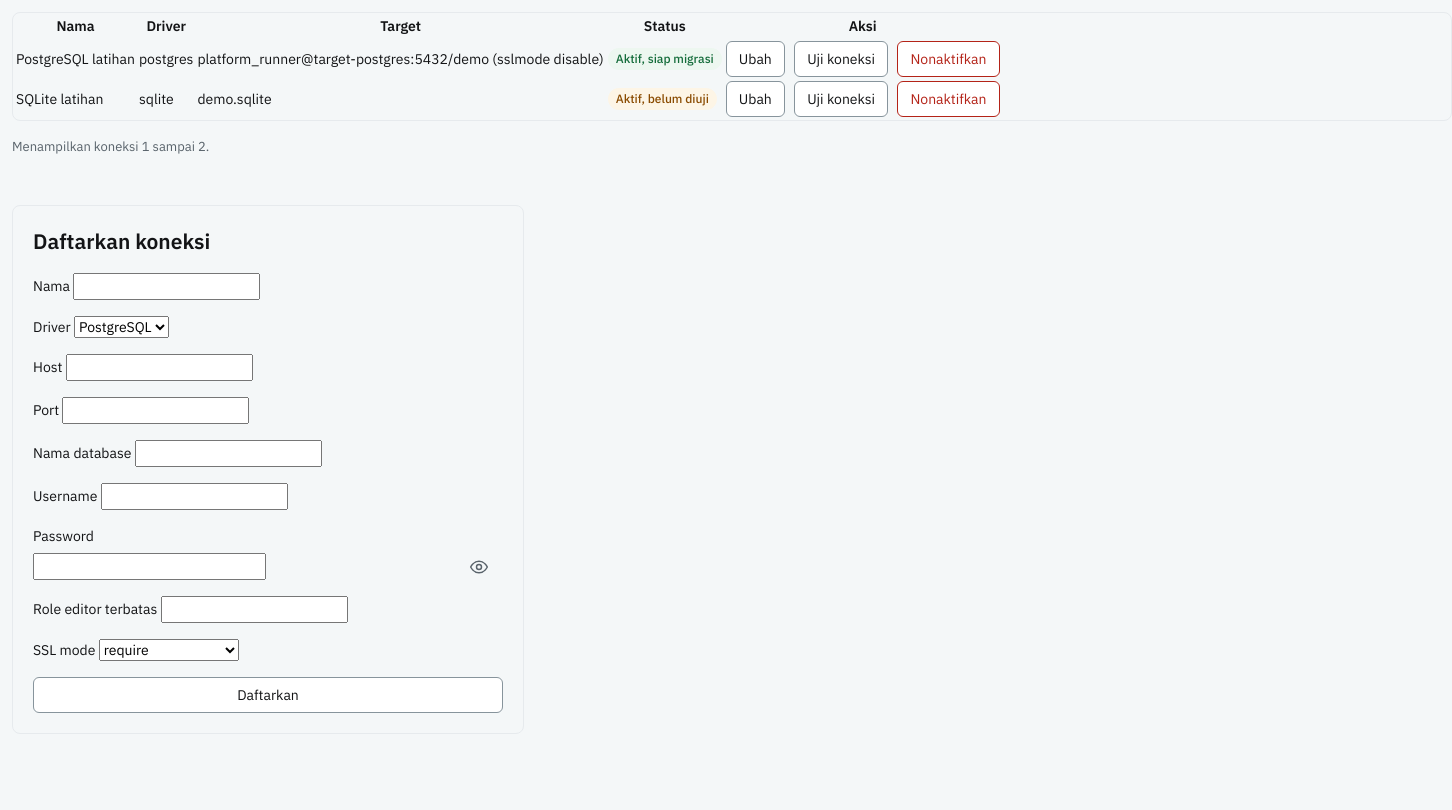
Test: ConnectionsPage › deactivates only after confirmation
Expected: the text "PostgreSQL latihan" is shown, [15,40,136,78]
Step 1. Click the button "Nonaktifkan" in the row of "PostgreSQL latihan" → (948, 59), box [897,41,1000,77]
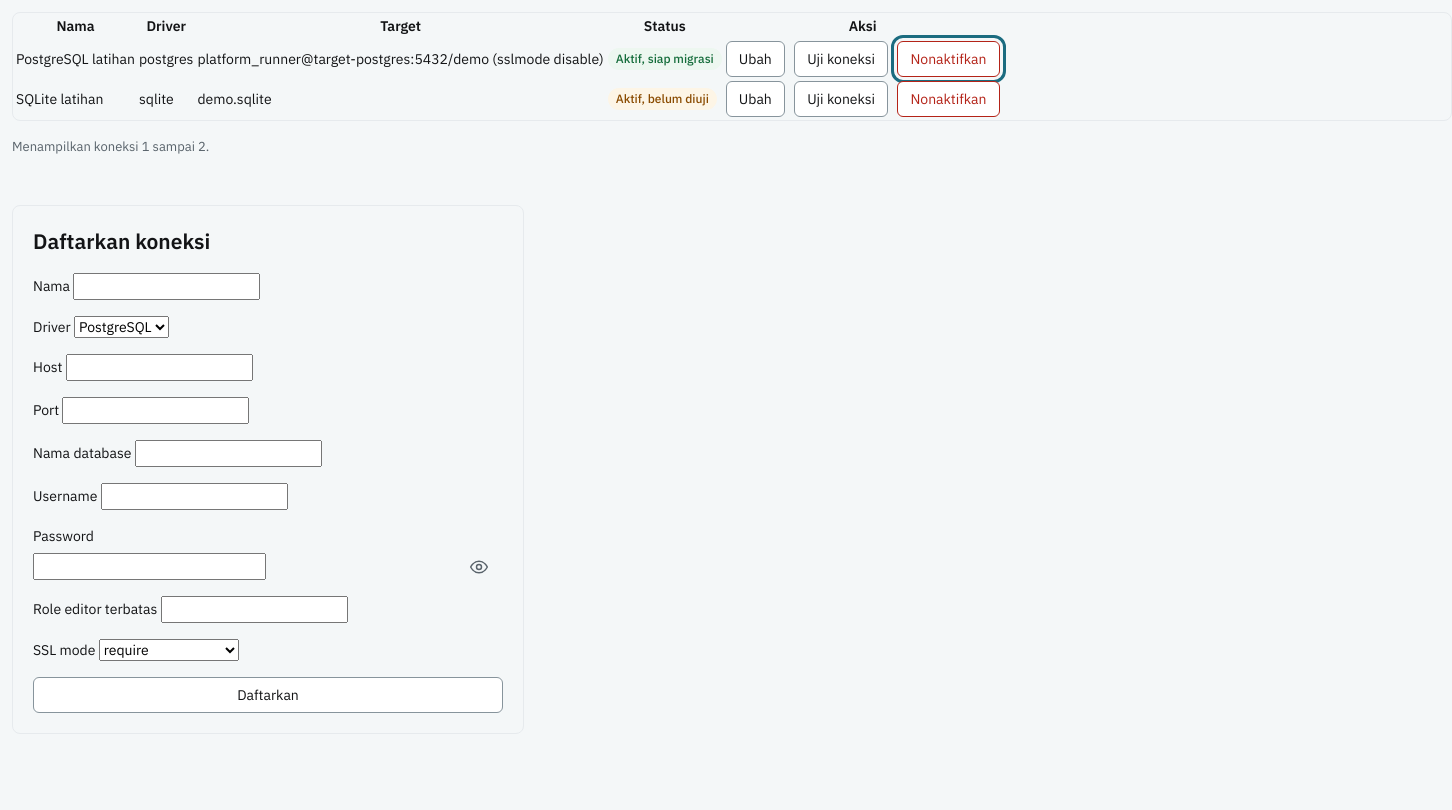
Step 2. Click the button "Nonaktifkan" in the row of "PostgreSQL latihan" → (948, 59), box [897,41,1000,77]
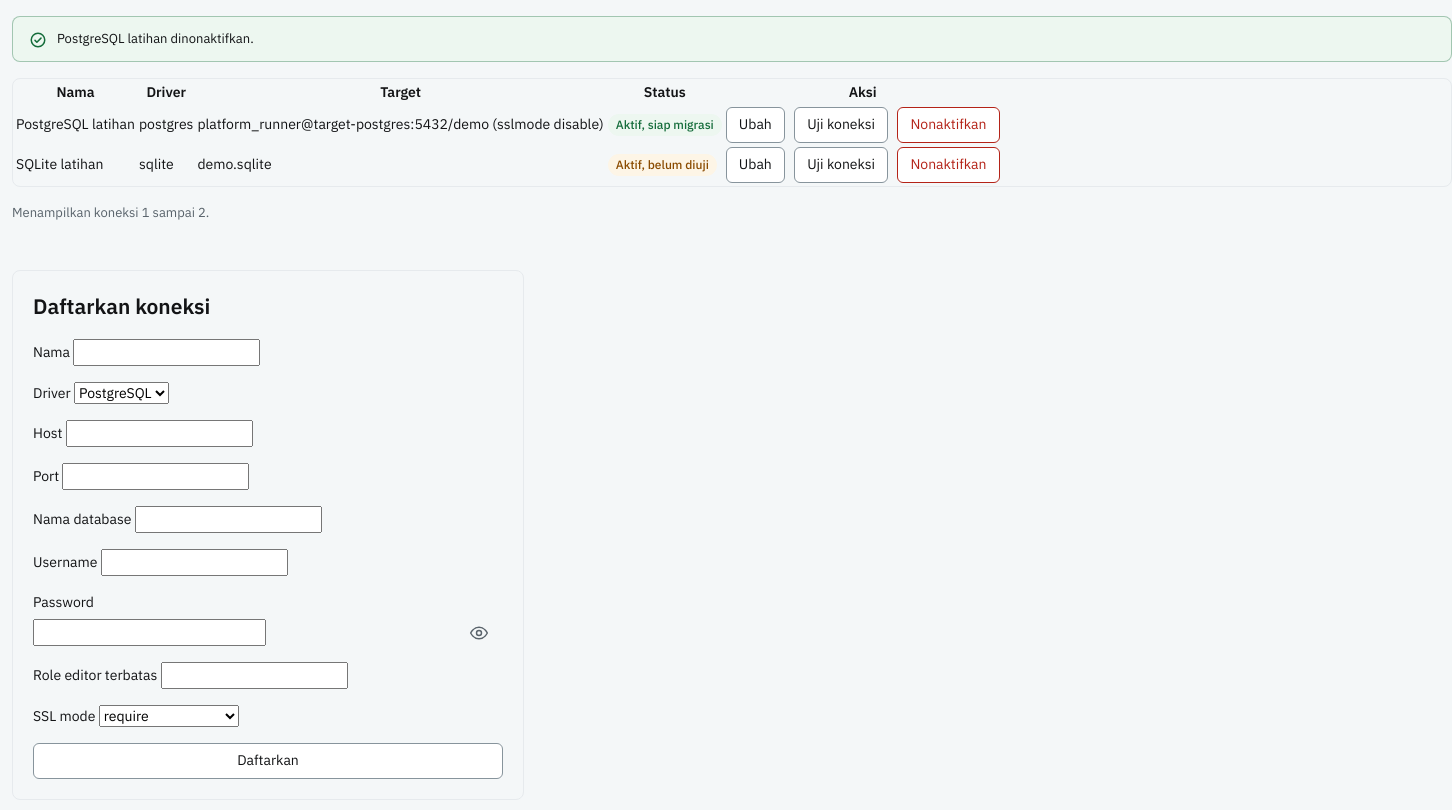
Expected: the message shows "dinonaktifkan", [57,30,254,47]
